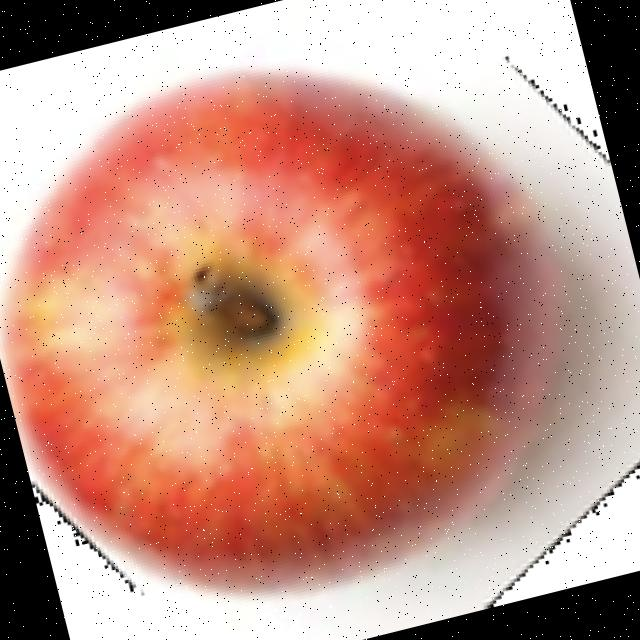apple: (0, 59, 640, 606)
